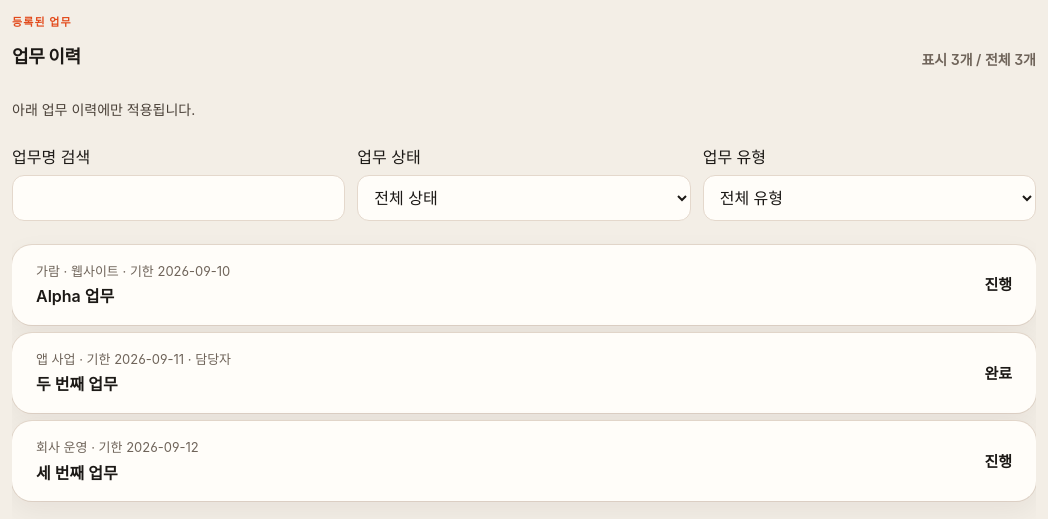
Test case: TaskList › filters by status or type independently and can produce zero matches when combined
Select "완료" in the dropdown labelled "업무 상태" at (524,198), box x1=357 y1=175 x2=691 y2=221
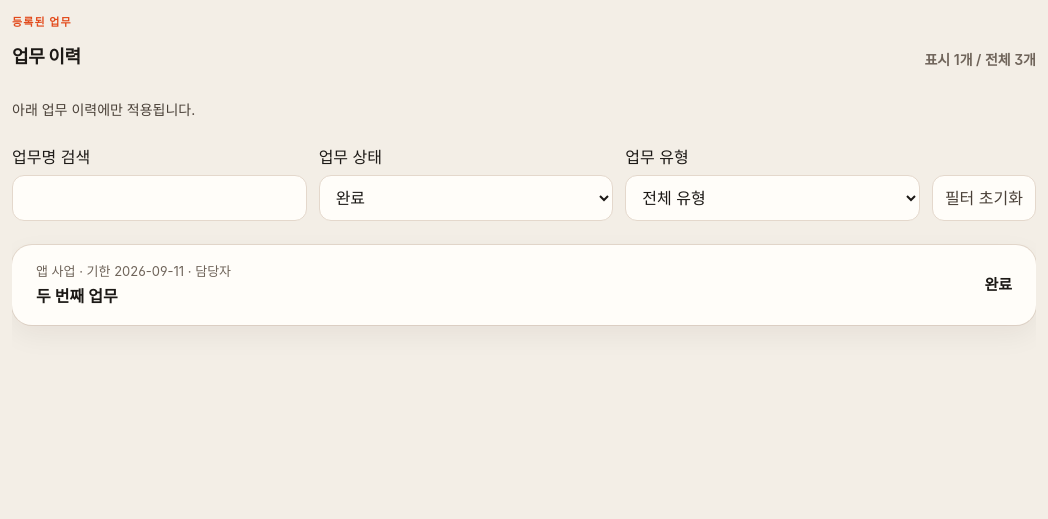
Expected: the heading "두 번째 업무" is shown, x1=36 y1=286 x2=118 y2=306
Select "전체 상태" in the dropdown labelled "업무 상태" at (466,198), box x1=319 y1=175 x2=613 y2=221
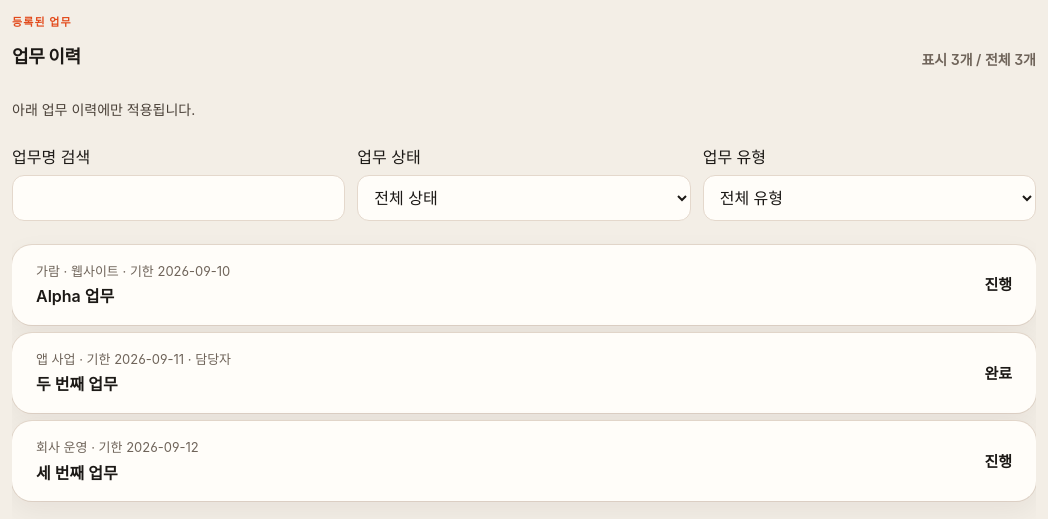
Select "자체 사업" in the dropdown labelled "업무 유형" at (869,198), box x1=703 y1=175 x2=1036 y2=221
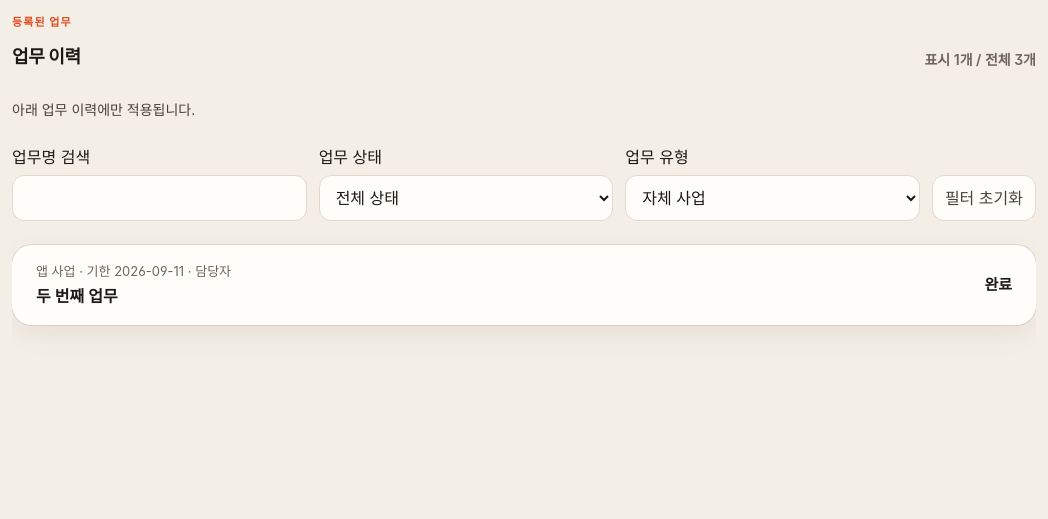
Expected: the heading "두 번째 업무" is shown, x1=36 y1=286 x2=118 y2=306
Select "진행" in the dropdown labelled "업무 상태" at (466,198), box x1=319 y1=175 x2=613 y2=221
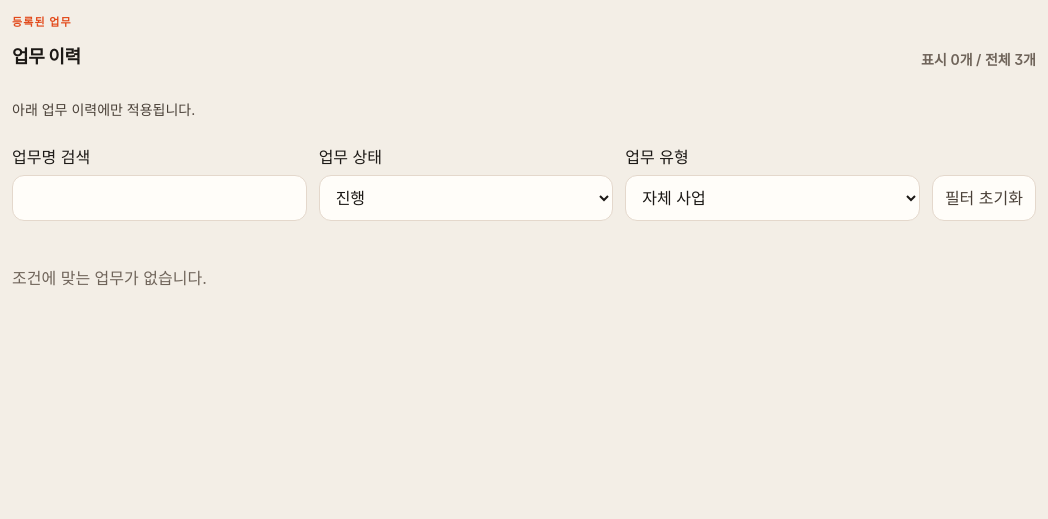
Result: the text "조건에 맞는 업무가 없습니다." is shown at x1=12 y1=268 x2=207 y2=288
